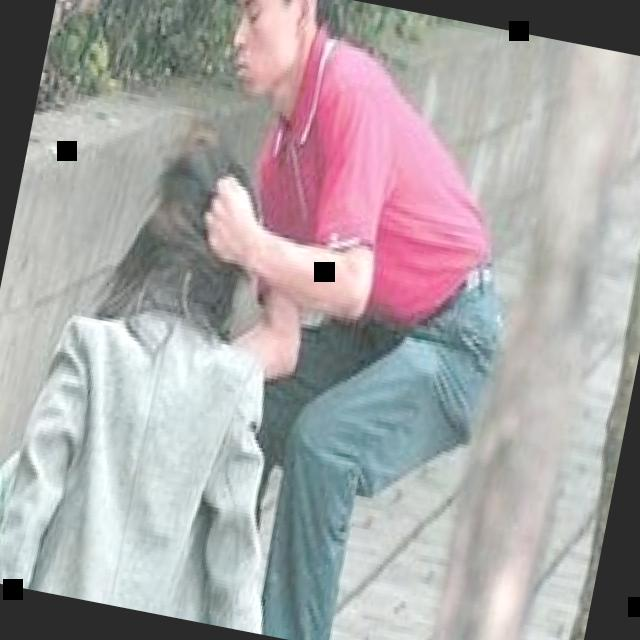Fall-Detected: (0, 96, 377, 639)
